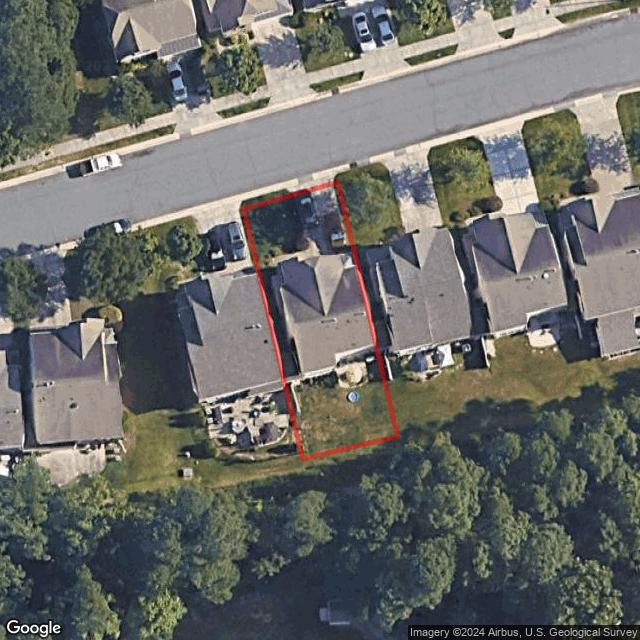Driveway: (293, 182, 351, 260)
Extra-Driveway: (286, 174, 336, 195)
Extra-Lawn: (243, 189, 292, 208)
House: (271, 253, 376, 380)
Lawn: (244, 182, 398, 458)
Other: (301, 345, 377, 389), (348, 391, 359, 402)
Sidewalk: (273, 250, 308, 266)
